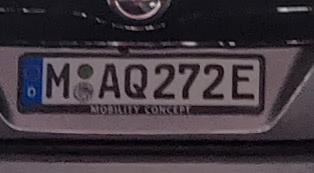2: (152, 62, 177, 100), (202, 62, 226, 101)
7: (178, 61, 201, 101)
A: (98, 62, 121, 100)
E: (230, 62, 255, 101)
M: (44, 61, 71, 100)
Q: (123, 63, 149, 100)
